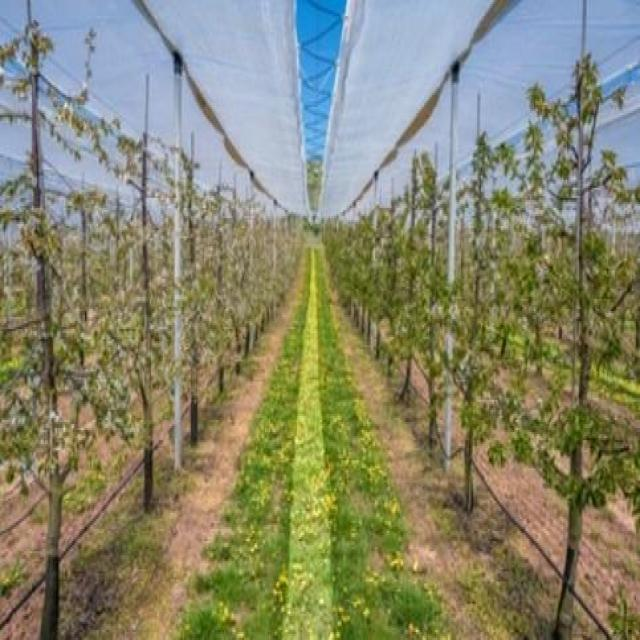row: (63, 234, 543, 640)
